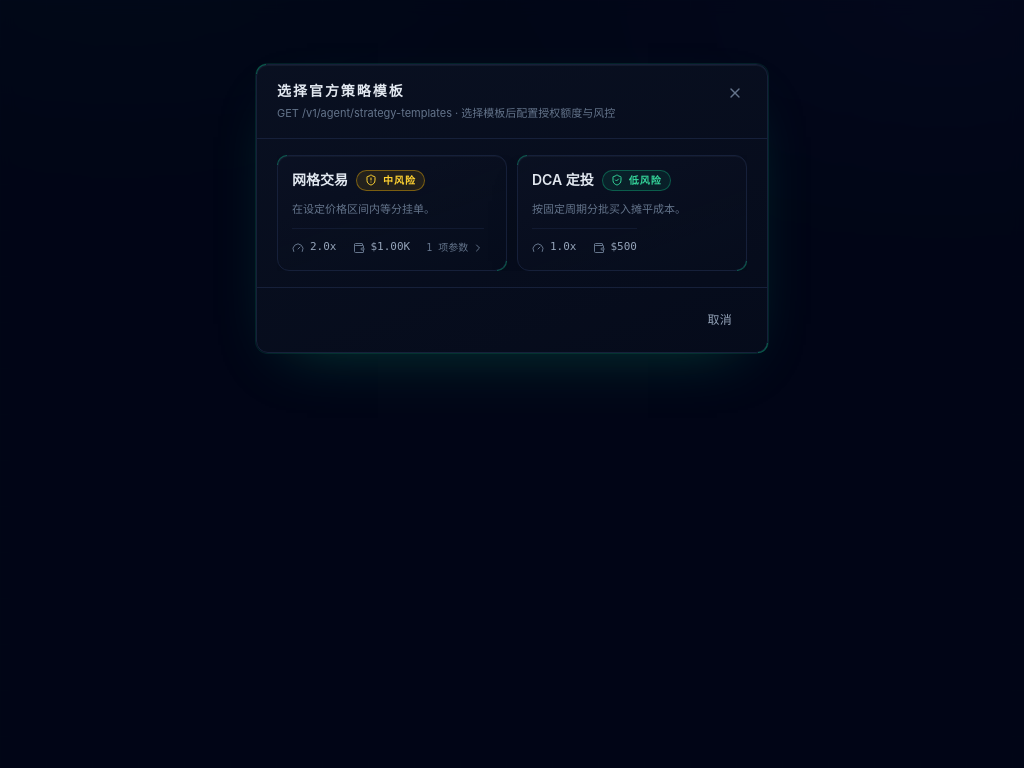
Test: LaunchTemplateModal 一键启动 › 拦截超出上限的止损，后端对此不做校验
Click the button "网格交易 中风险 在设定价格区间内等分挂单。 2.0x $1.00K 1 项参数" at (392, 213), box [277,154,507,271]
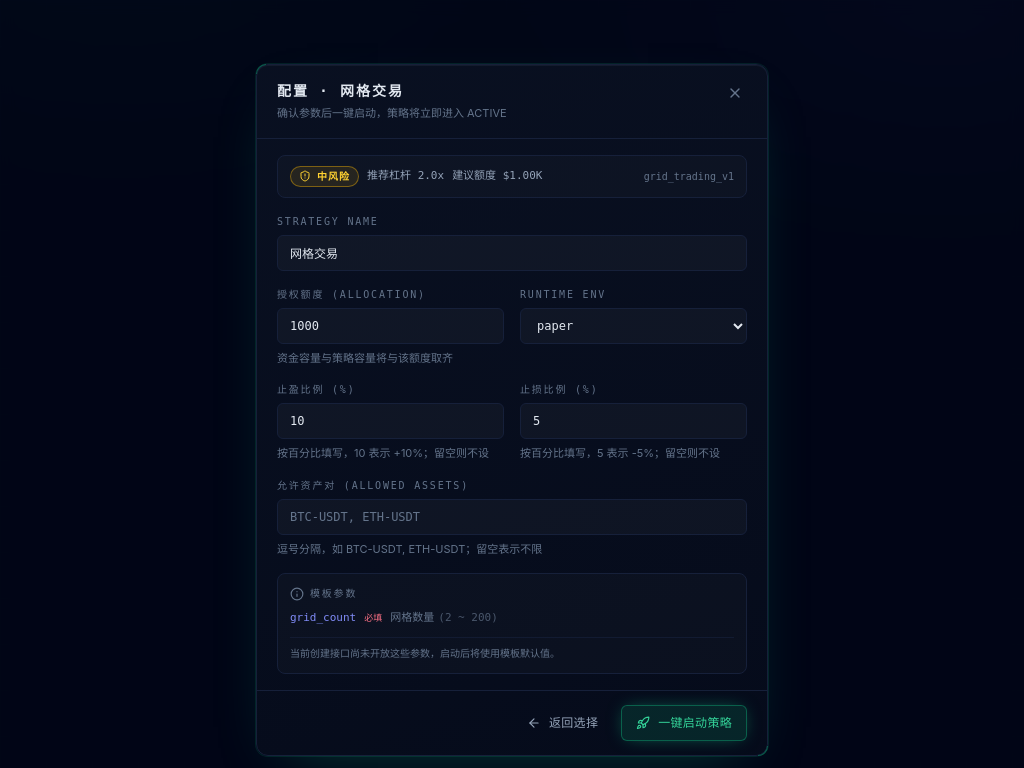
Replace the text in the field labelled "止损比例 (%)" with "150" at (634, 421), box [520,403,747,439]
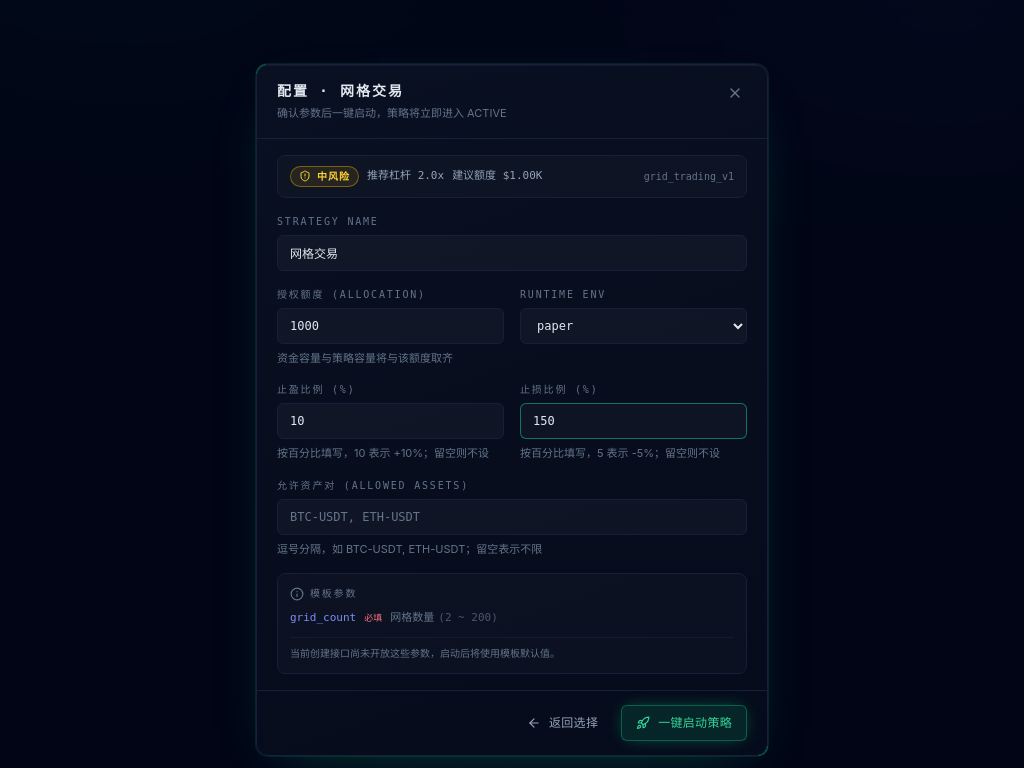
Click the button "一键启动策略" at (684, 722), box [621,704,747,740]
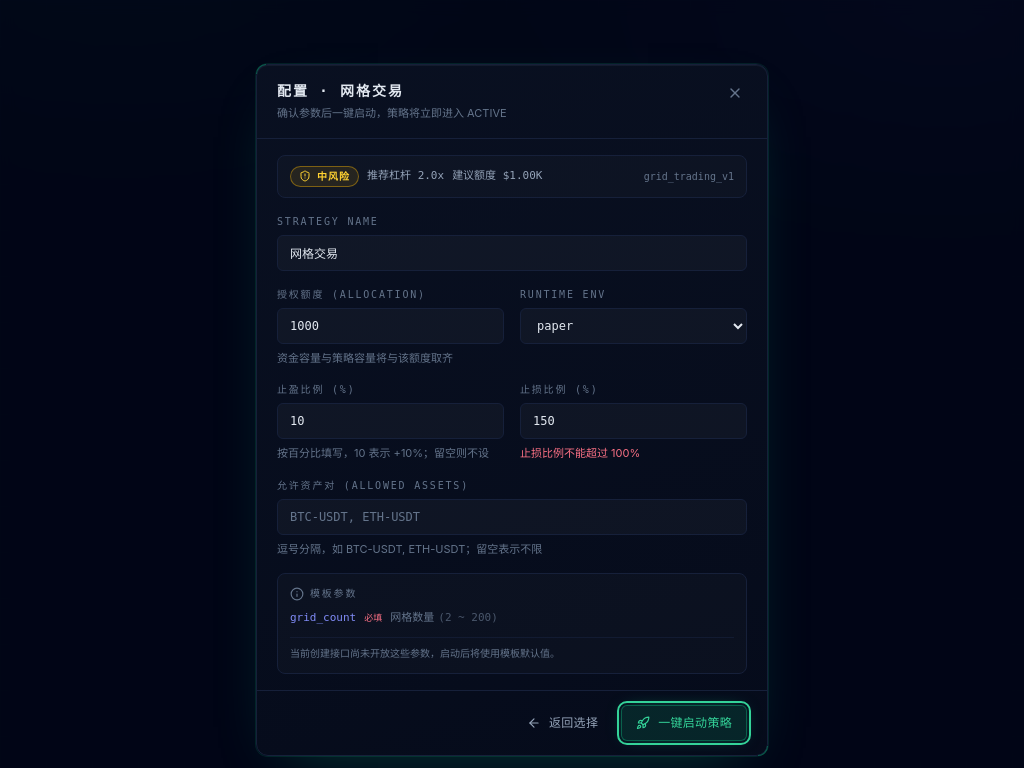
Expected: the text "不能超过 100%" is shown, [520,446,640,460]
